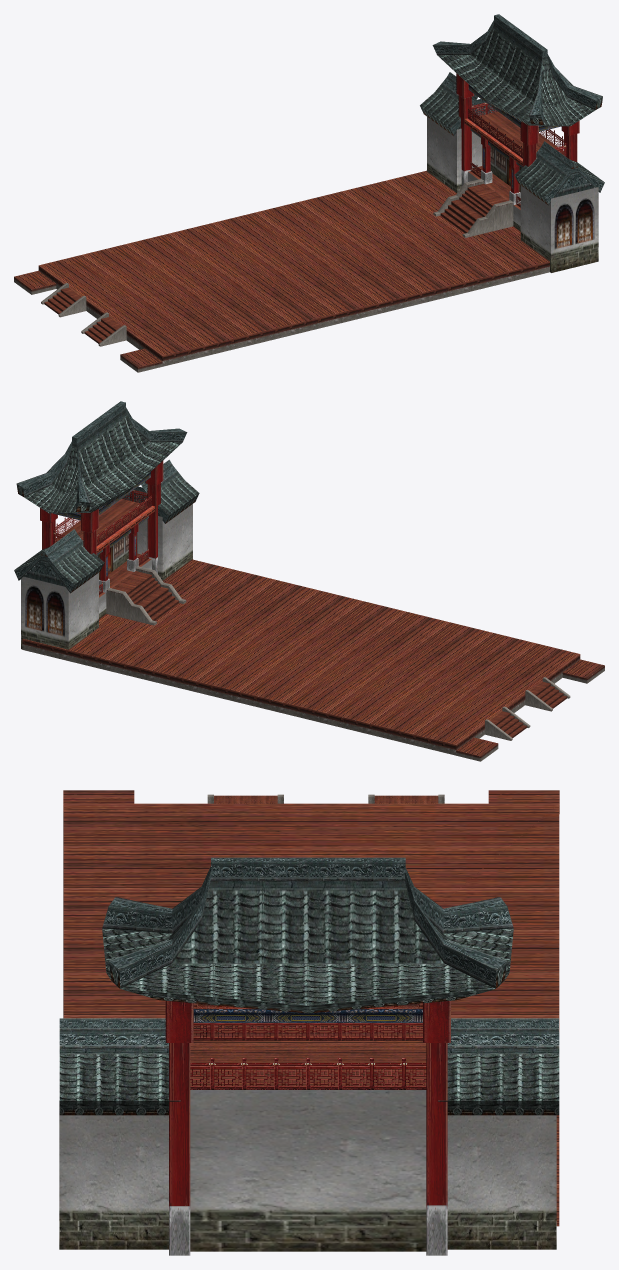
The model's file is cj_monstad_martbuil01_01.glb.
3 views of the same model, one above another, from view 1: azimuth 30°, elevation 25°; view 2: azimuth 150°, elevation 25°; view 3: azimuth 270°, elevation 25° (orthographic). The views are drawn at different scales.
Parts seen in each view (by area): view 1: CJ_monstad_martbuil01_01_06, CJ_monstad_martbuil01_01_01, CJ_monstad_martbuil01_01_07, CJ_monstad_martbuil01_01_05, CJ_monstad_martbuil01_01_02, CJ_monstad_martbuil01_01_04, CJ_monstad_martbuil01_01_03; view 2: CJ_monstad_martbuil01_01_06, CJ_monstad_martbuil01_01_01, CJ_monstad_martbuil01_01_05, CJ_monstad_martbuil01_01_07, CJ_monstad_martbuil01_01_02, CJ_monstad_martbuil01_01_04, CJ_monstad_martbuil01_01_03; view 3: CJ_monstad_martbuil01_01_01, CJ_monstad_martbuil01_01_07, CJ_monstad_martbuil01_01_06, CJ_monstad_martbuil01_01_02, CJ_monstad_martbuil01_01_03, CJ_monstad_martbuil01_01_04.
Boxes of the visible parts, x1,y1,x2,y2 form: CJ_monstad_martbuil01_01_06: (14,111,563,367); CJ_monstad_martbuil01_01_01: (420,14,604,205); CJ_monstad_martbuil01_01_07: (427,117,598,272); CJ_monstad_martbuil01_01_05: (14,179,549,372); CJ_monstad_martbuil01_01_02: (456,73,579,204); CJ_monstad_martbuil01_01_04: (44,183,507,343); CJ_monstad_martbuil01_01_03: (468,102,566,207); CJ_monstad_martbuil01_01_06: (23,499,604,756); CJ_monstad_martbuil01_01_01: (14,401,199,593); CJ_monstad_martbuil01_01_05: (22,566,604,761); CJ_monstad_martbuil01_01_07: (21,504,192,649); CJ_monstad_martbuil01_01_02: (40,461,163,592); CJ_monstad_martbuil01_01_04: (112,571,567,737); CJ_monstad_martbuil01_01_03: (53,490,151,594); CJ_monstad_martbuil01_01_01: (59,857,559,1115); CJ_monstad_martbuil01_01_07: (59,1090,556,1251); CJ_monstad_martbuil01_01_06: (63,790,559,1226); CJ_monstad_martbuil01_01_02: (165,1001,450,1255); CJ_monstad_martbuil01_01_03: (190,1023,426,1089); CJ_monstad_martbuil01_01_04: (214,795,438,803).
Bounding box in the file's own units: 47.03 × 17.51 × 21.18.
7 materials, 7 textured.
